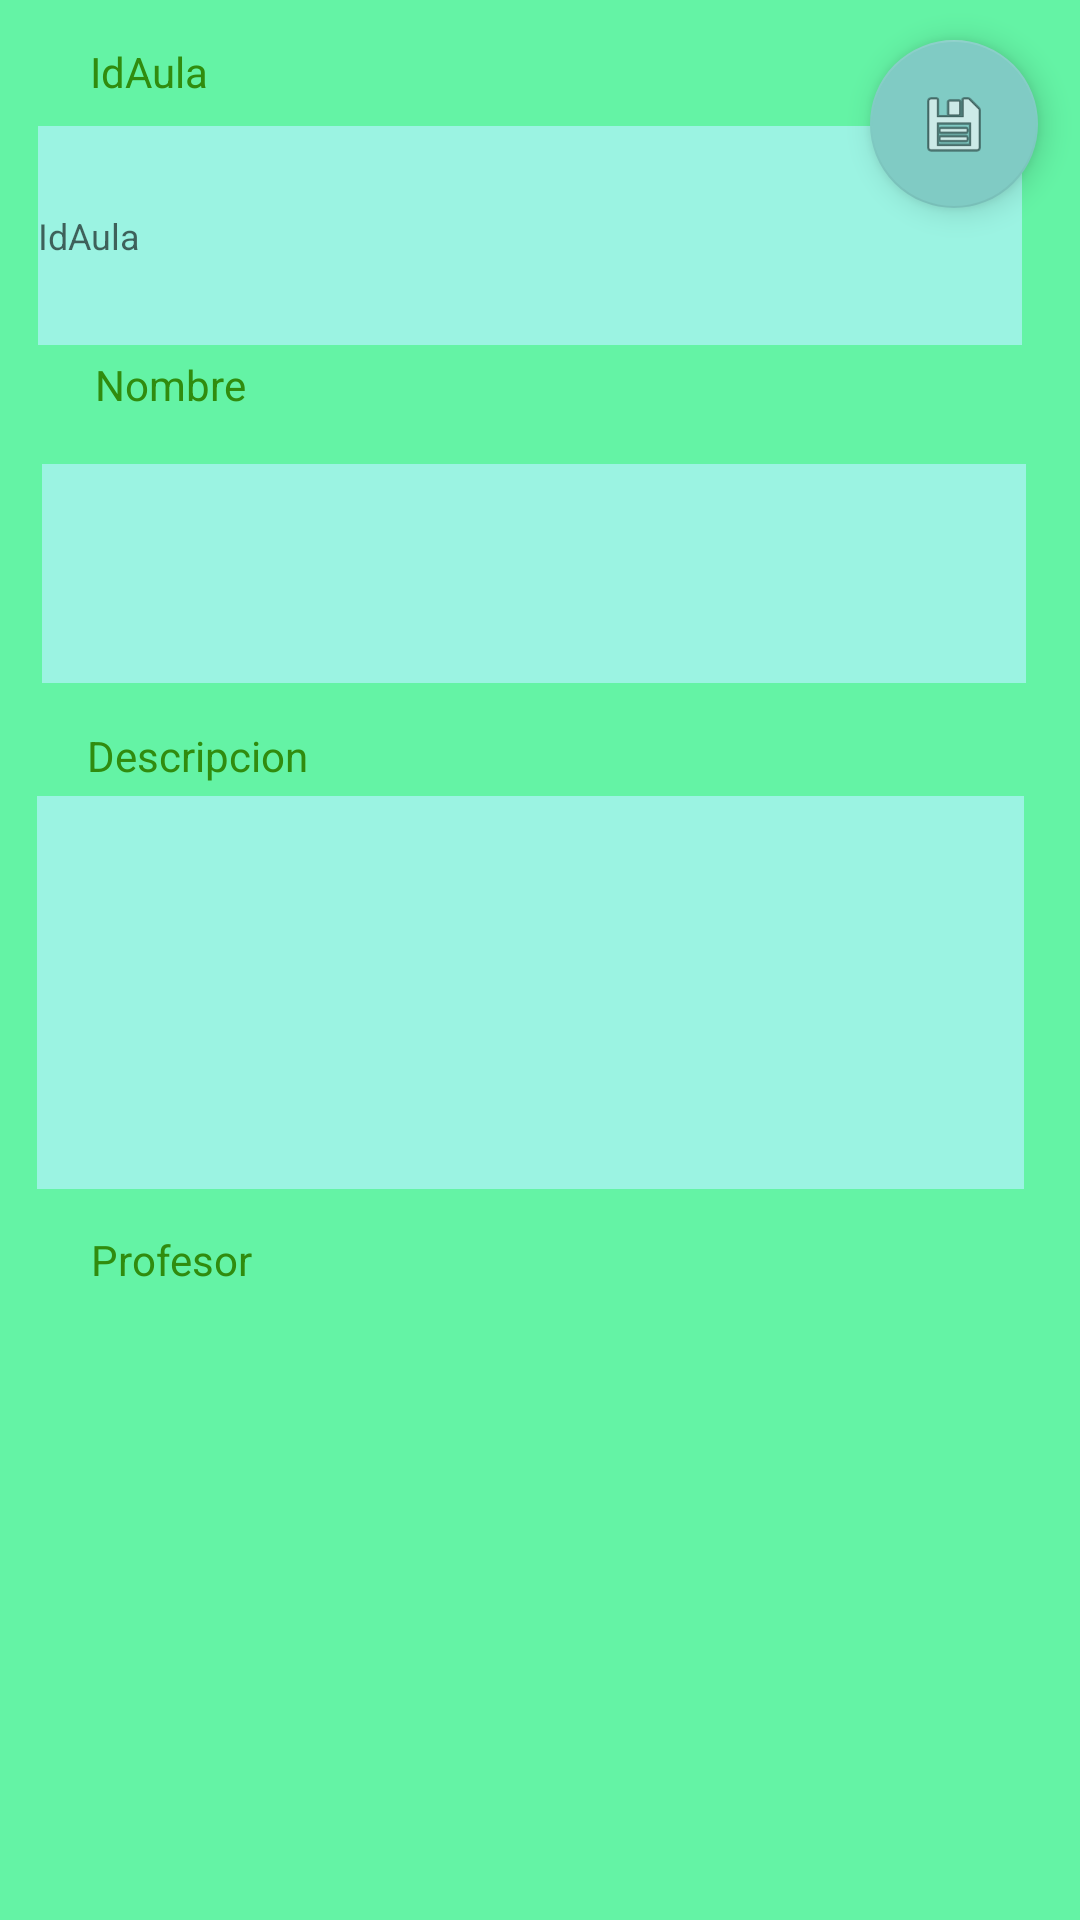

Icon bounding boxes for this 1080px×1920px phone screenshot, format [left=x1, top=y1, right=x2, bottom=y2]:
save: [left=870, top=40, right=1038, bottom=208]
